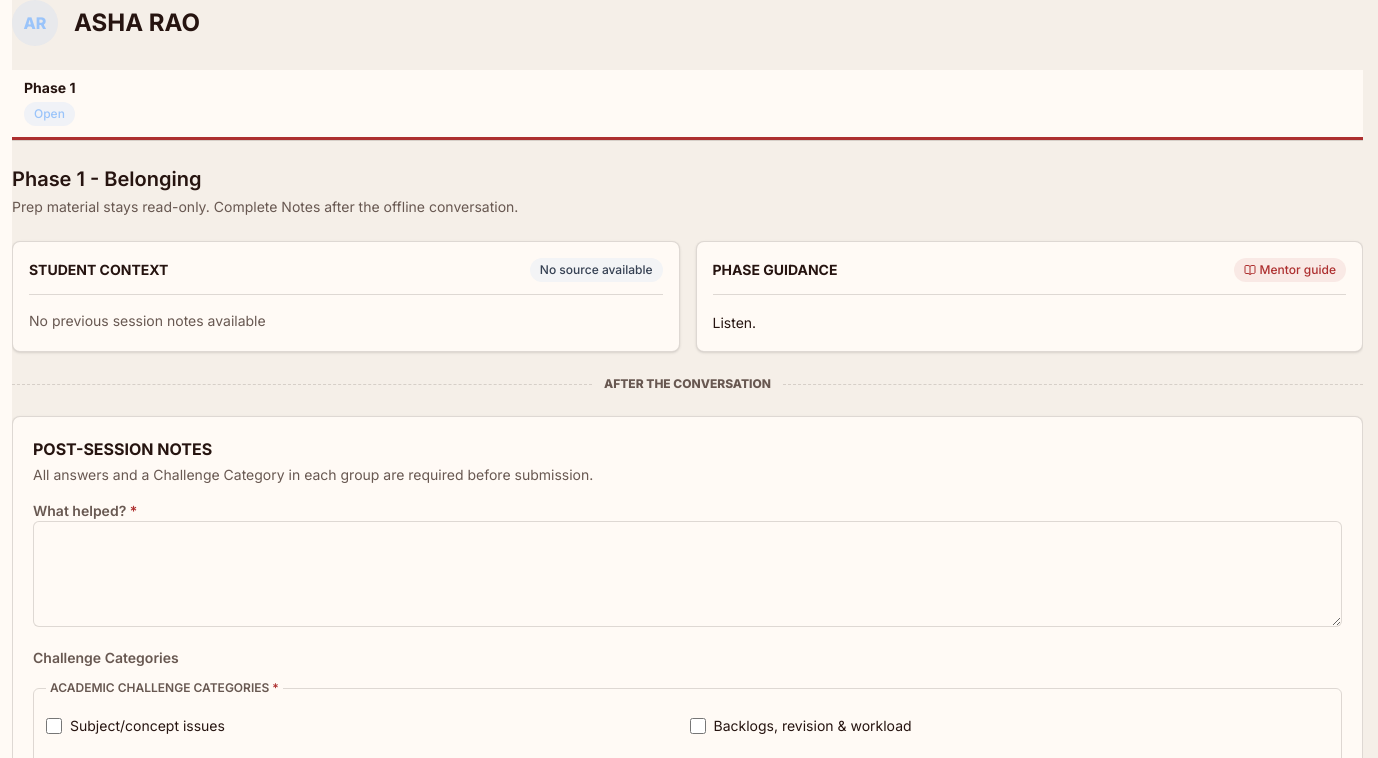
Test case: StudentPhaseWorkspace › autosaves a partial answer only after a short pause
The width and height of the screenshot is (1378, 758).
In the text box labelled "What helped?": (688, 574) [33,521,1342,627], type "A weekly plan"
Wait 750 ms
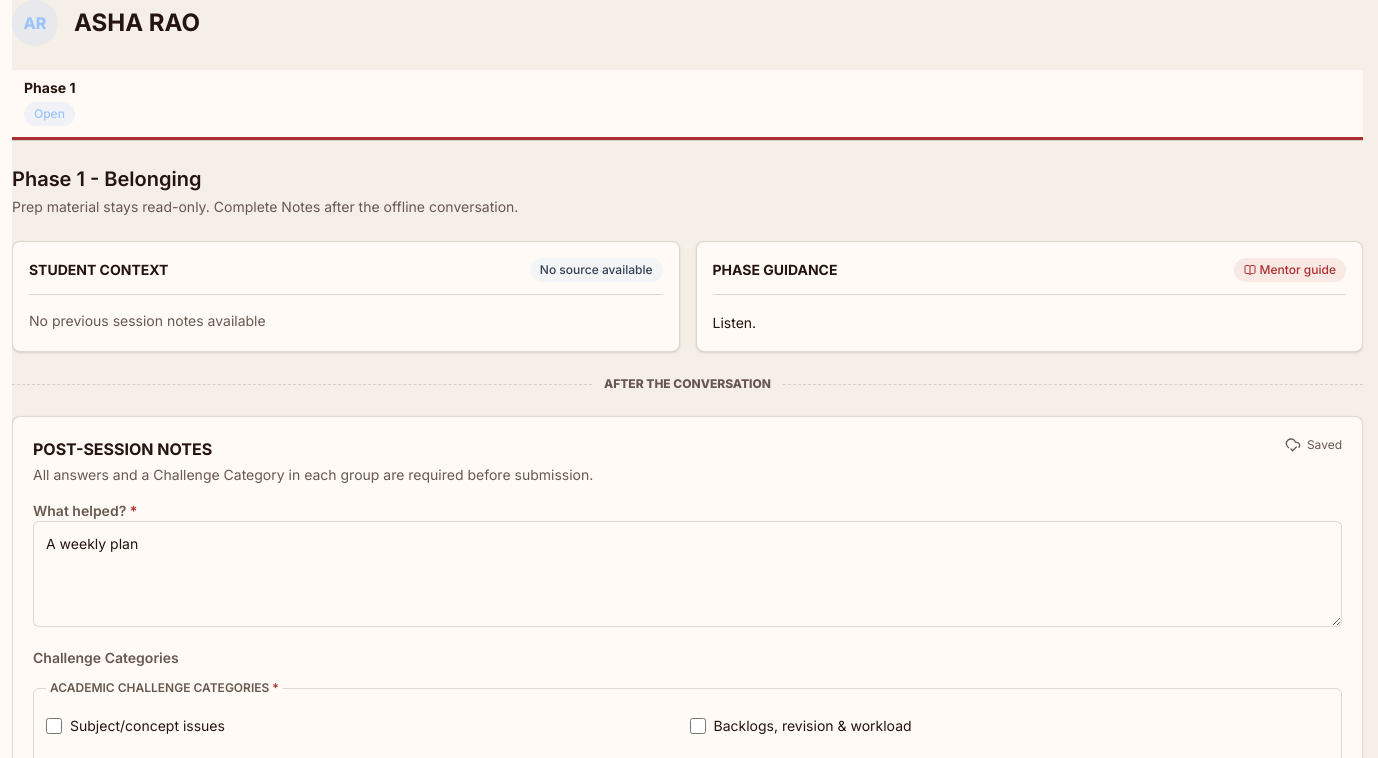
Now the text "Saved" is shown, box [1285,437,1342,453]
